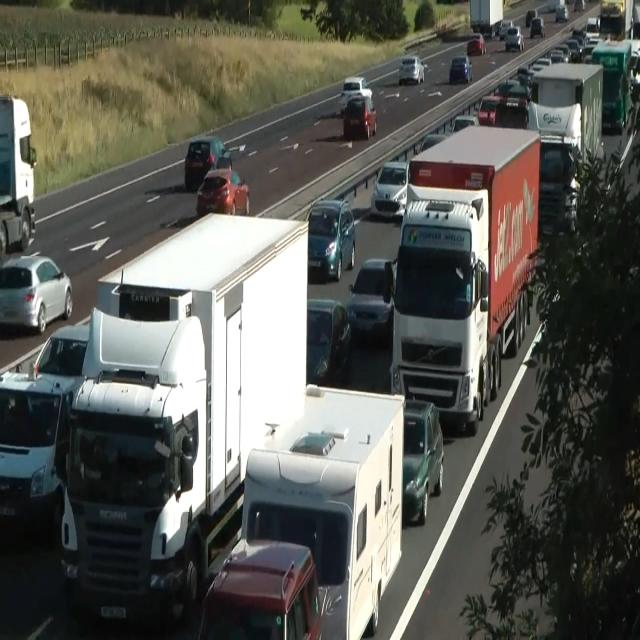bus: (198, 540, 322, 639), (0, 252, 73, 334), (402, 398, 444, 526), (32, 322, 90, 402), (306, 198, 356, 282), (345, 258, 393, 343), (306, 298, 351, 384), (184, 136, 232, 191), (196, 168, 250, 215), (372, 160, 409, 218), (343, 94, 377, 140), (340, 76, 372, 116), (494, 101, 528, 129), (398, 55, 424, 85), (413, 132, 448, 154), (478, 95, 502, 126), (449, 54, 473, 84), (506, 83, 530, 109), (449, 114, 479, 134), (504, 26, 524, 52), (600, 0, 624, 19), (580, 38, 599, 62), (628, 52, 640, 90), (563, 38, 581, 62), (467, 34, 485, 56), (552, 45, 572, 63), (498, 19, 514, 41), (529, 17, 545, 38), (555, 5, 569, 22), (526, 10, 536, 26), (573, 0, 585, 12)
car: (59, 303, 208, 624)
jeep: (0, 369, 69, 540)
minibus: (59, 210, 309, 628), (198, 382, 404, 639), (388, 124, 540, 434), (526, 62, 604, 180), (0, 92, 36, 262), (590, 38, 632, 134), (468, 0, 504, 38)
